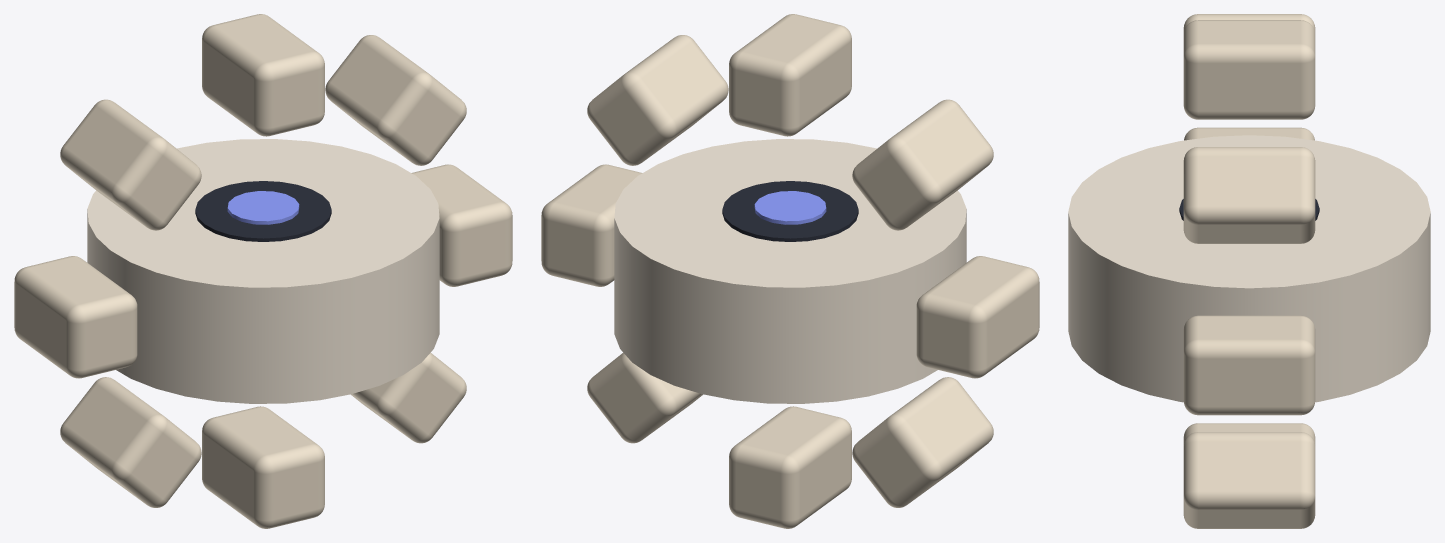
Rendered from settings.glb.
The picture shows the model from 3 angles, left to right: view 1: azimuth 30°, elevation 25°; view 2: azimuth 150°, elevation 25°; view 3: azimuth 270°, elevation 25°; orthographic projection. The views are drawn at different scales.
Size of the model in its own units: 1.35 by 1.35 by 0.9281.
